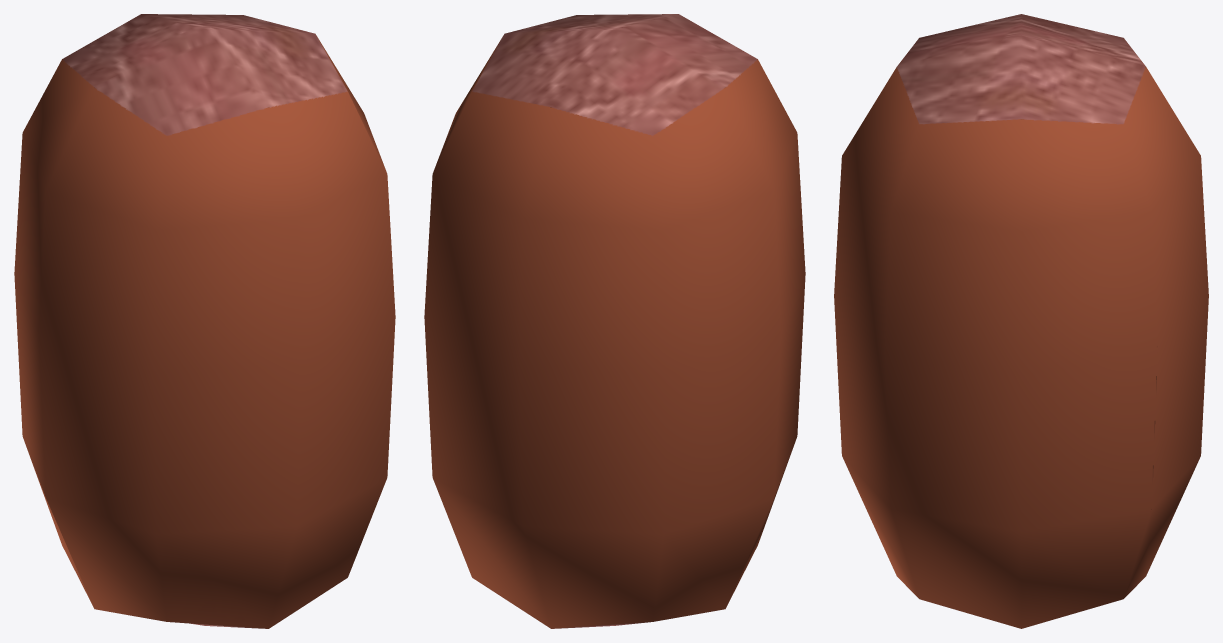
The model's file is MeatCylinder.fbx.
The picture shows the model from 3 angles, left to right: view 1: azimuth 30°, elevation 25°; view 2: azimuth 150°, elevation 25°; view 3: azimuth 270°, elevation 25°; orthographic projection. The views are drawn at different scales.
Parts seen in each view (by area): view 1: Cube.033; view 2: Cube.033; view 3: Cube.033.
Boxes of the visible parts, x1,y1,x2,y2 form: Cube.033: (14, 14, 395, 628); Cube.033: (424, 14, 805, 628); Cube.033: (834, 14, 1208, 628).
Bounding box in the file's own units: 28.55 × 48.94 × 28.55.
1 material, 1 textured.
